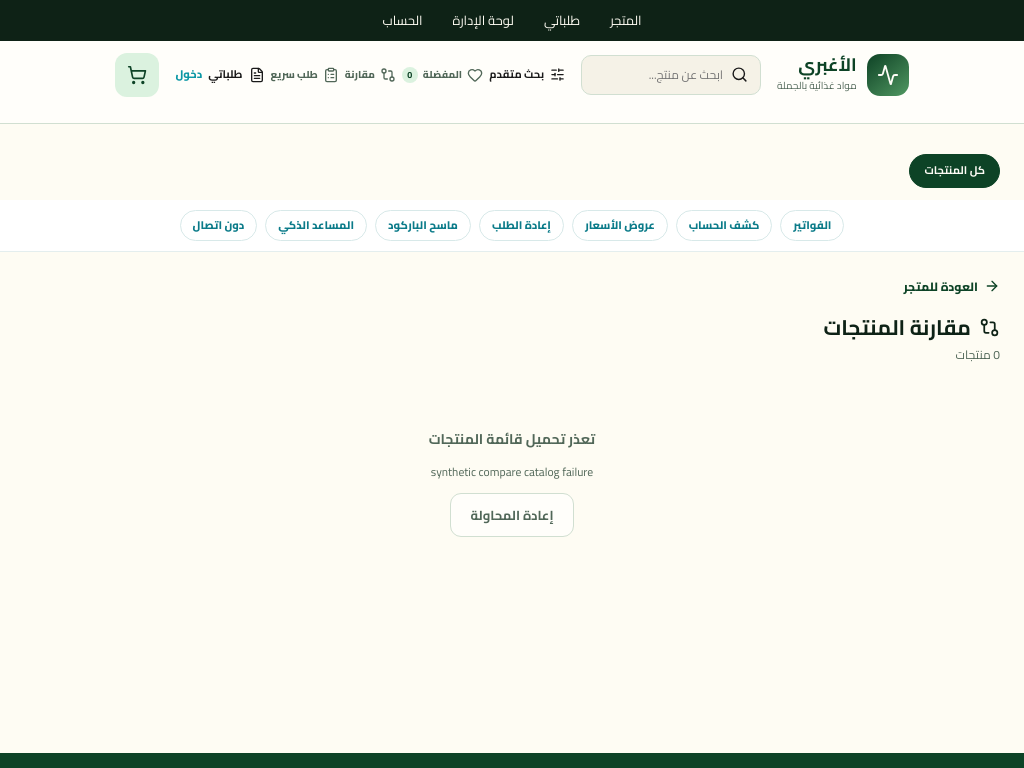
compare real route acceptance › shows catalog failure on the real compare route and recovers through the visible retry action
Expected: the message "تعذر تحميل قائمة المنتجات synthetic compare catalog failure إعادة المحاولة" is shown, 429,426 -> 595,537
Expected: the text "صنف تجريبي للمقارنة" is not shown
Click the button "إعادة المحاولة": x=512, y=515 450,493 -> 574,537
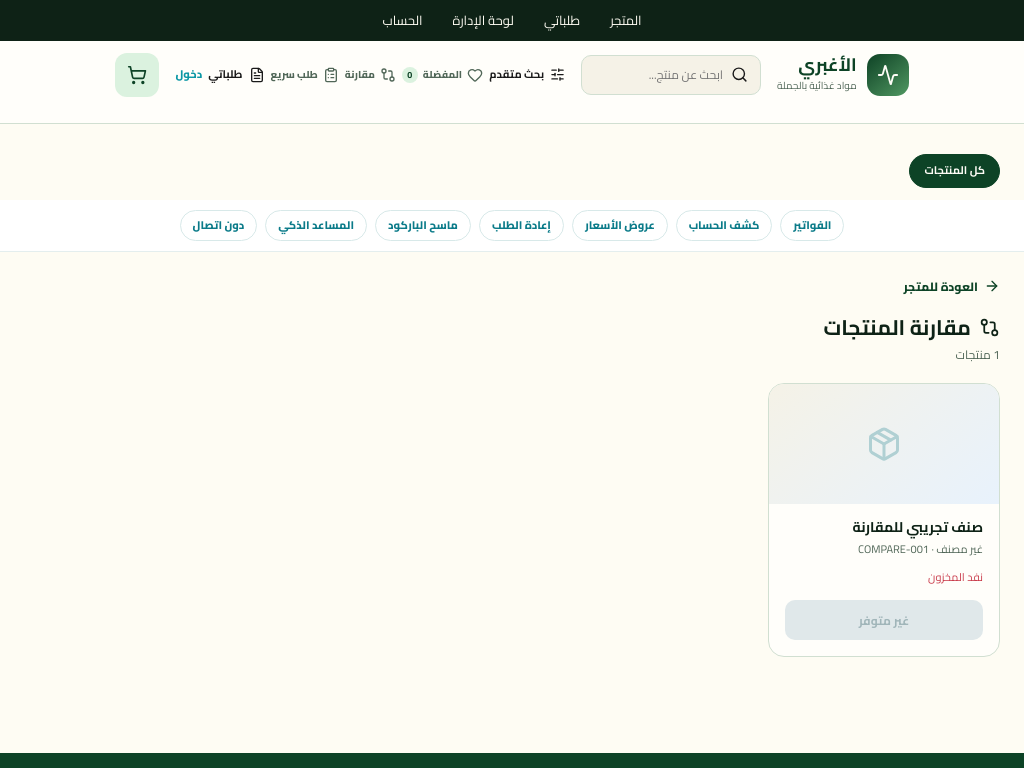
Expected: the text "صنف تجريبي للمقارنة" is shown, 852,514 -> 983,540
Expected: the message "تعذر تحميل قائمة المنتجات synthetic compare catalog failure إعادة المحاولة" is gone
Expected: the text "1 منتجات" is shown, 956,343 -> 1000,366
